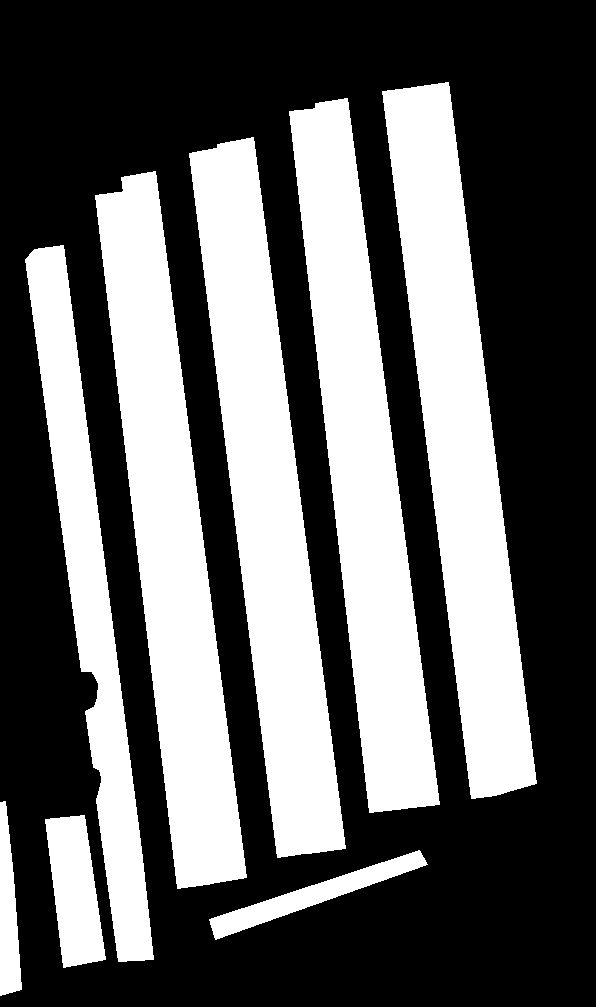parkingspot: (217, 137, 345, 853), (25, 245, 153, 961), (121, 171, 246, 883), (315, 98, 439, 808), (382, 87, 505, 798), (413, 82, 536, 793), (189, 147, 311, 857), (95, 191, 213, 888), (289, 108, 405, 812), (209, 850, 427, 939), (45, 815, 105, 967), (0, 801, 21, 995)
